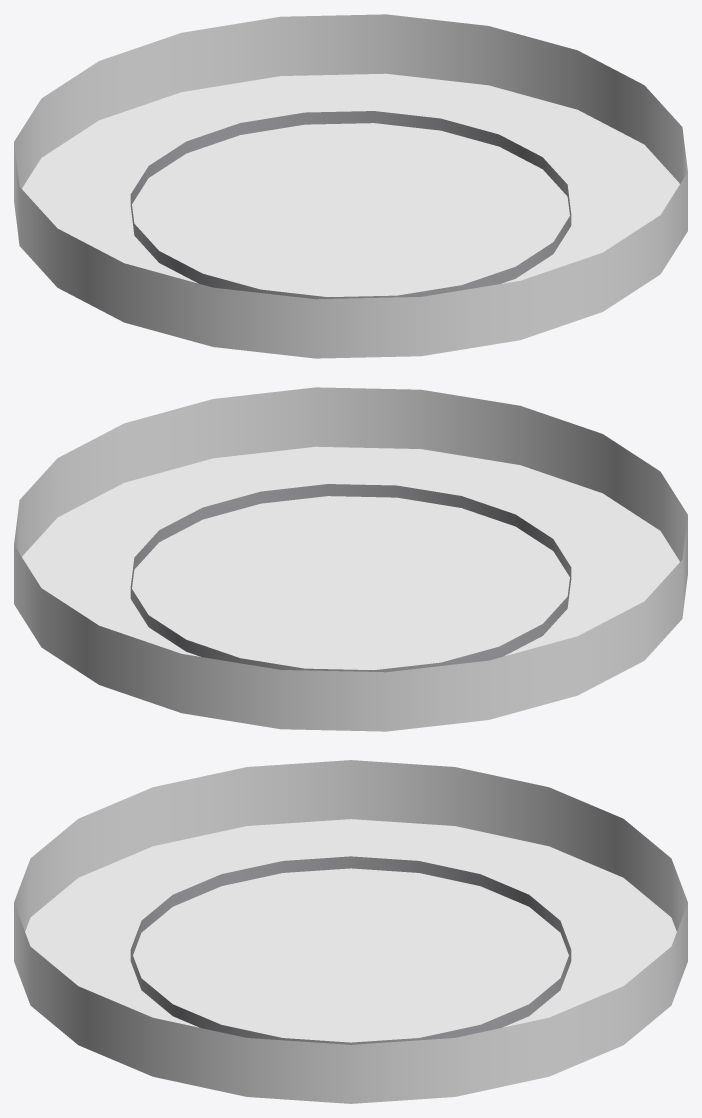
The model's file is lampara.obj.
The picture shows the model from 3 angles, top to bottom: view 1: azimuth 30°, elevation 25°; view 2: azimuth 150°, elevation 25°; view 3: azimuth 270°, elevation 25°; orthographic projection.
Visible parts, largest first — view 1: pCylinder6; view 2: pCylinder6; view 3: pCylinder6.
Part boxes in pixels (<box>): pCylinder6: <box>14,14,687,358</box>; pCylinder6: <box>14,387,687,731</box>; pCylinder6: <box>14,760,687,1103</box>.
Size of the model in its own units: 2 by 0.2978 by 2.
2 materials, 2 textured.
